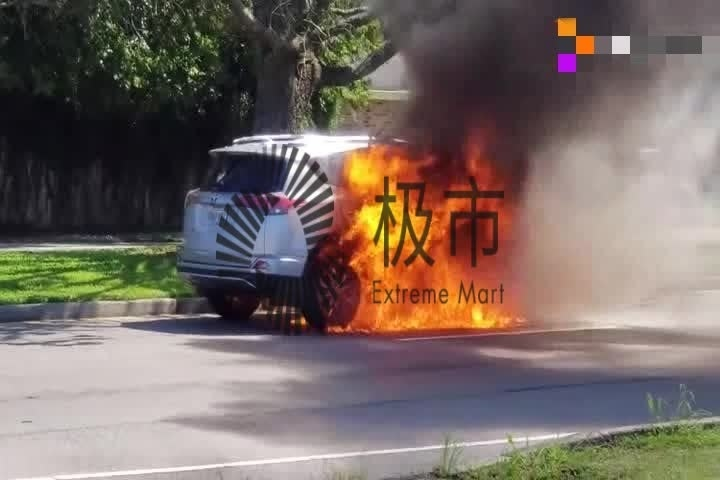fire: (341, 141, 518, 334)
